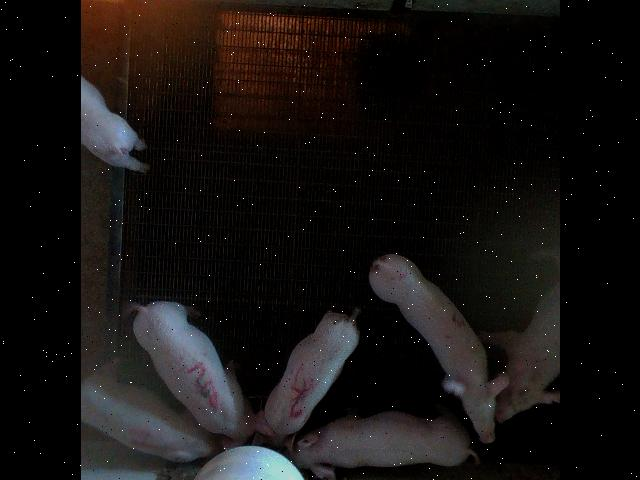pig-3: (132, 301, 254, 448)
pig-4: (81, 359, 221, 461)
pig-5: (256, 311, 358, 448)
